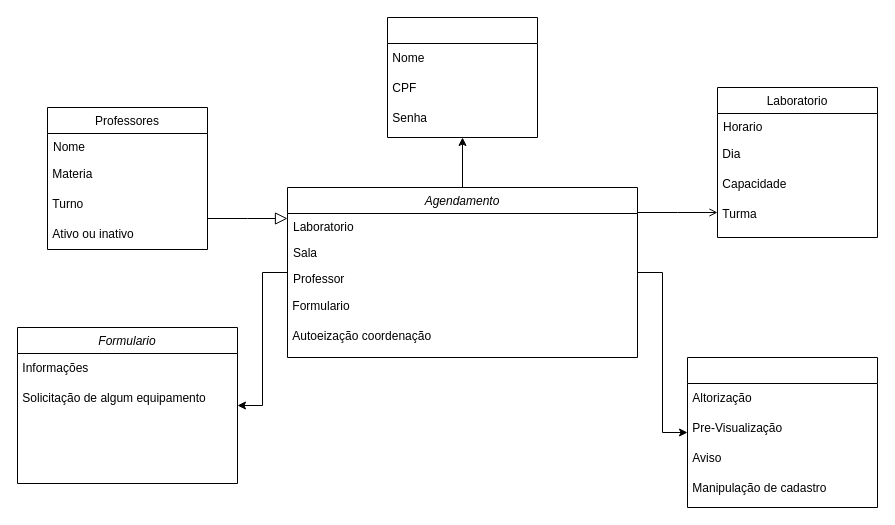
Image size: 895x525. Some labels were removed from this diagram. The shapes that lost their labels are listed below. From the top down, each one's box as (x1, y1, x2, y2) in pixels, then its label:
(386, 16, 538, 138): Login
(686, 356, 878, 508): Coordenação
